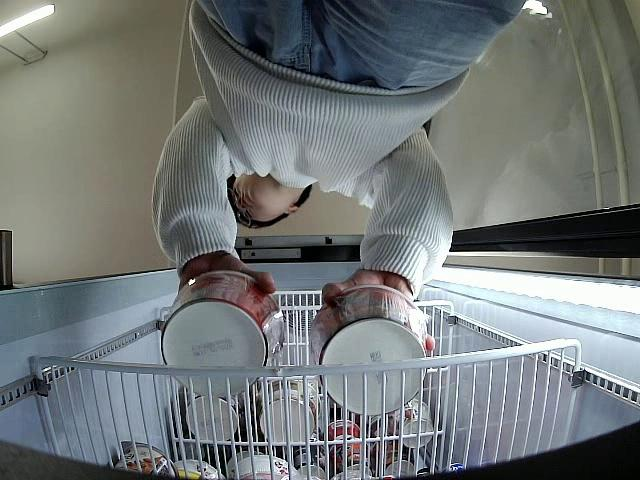00_hand: (320, 269, 436, 349), (178, 263, 277, 295)
01_shinRamen_L: (161, 271, 286, 399), (310, 287, 428, 416)
